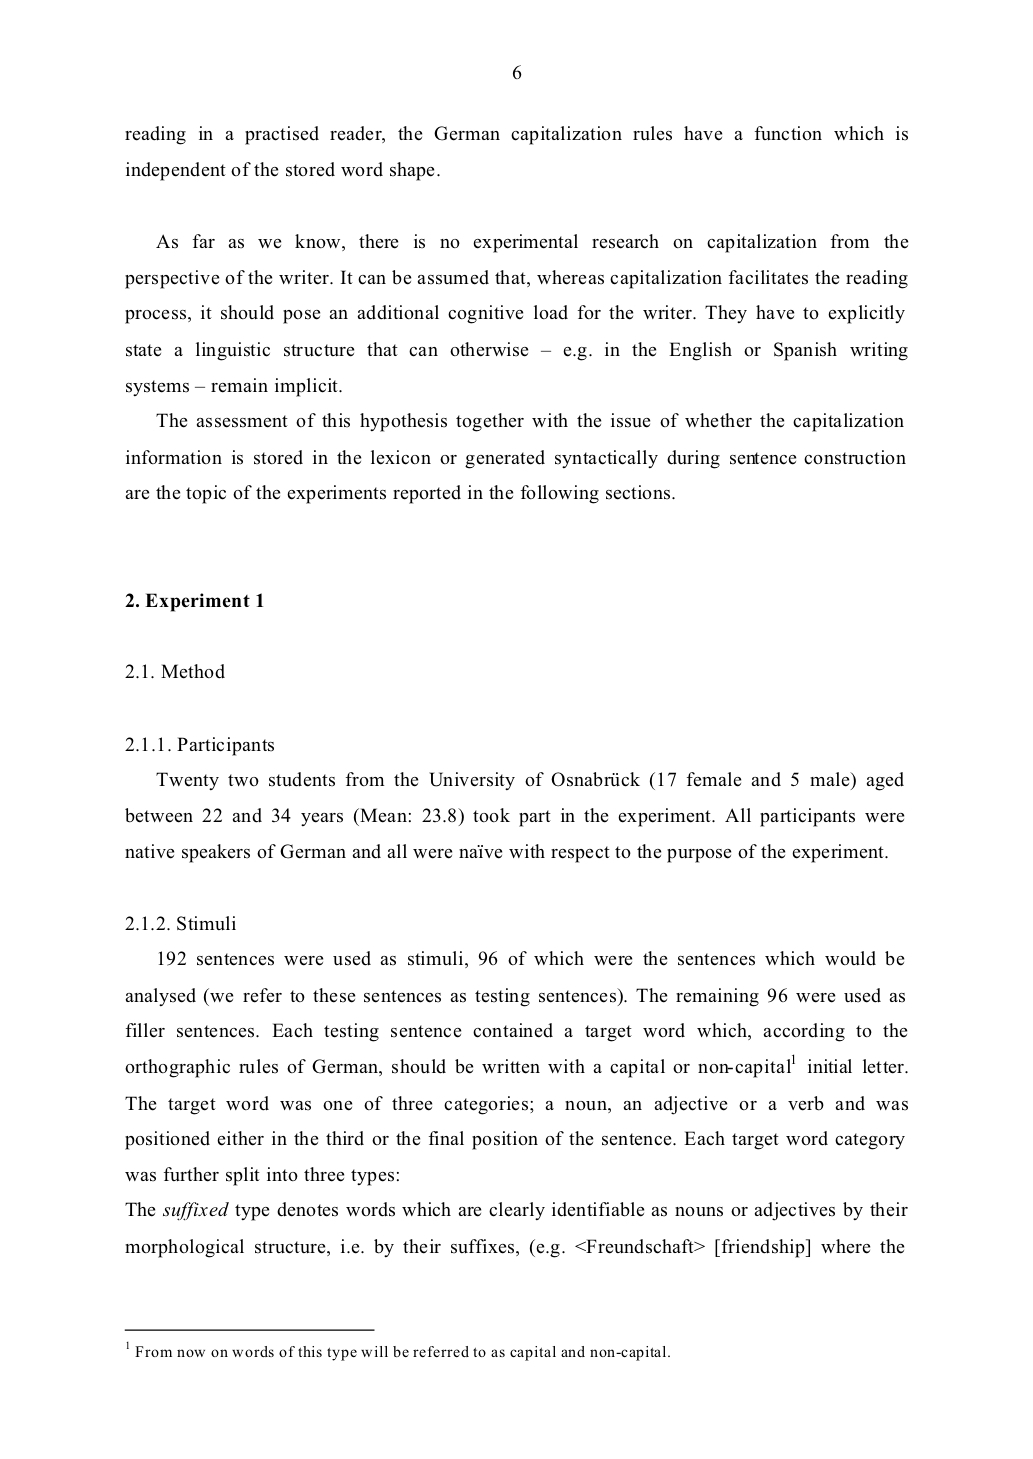figure: (124, 1328, 375, 1332)
